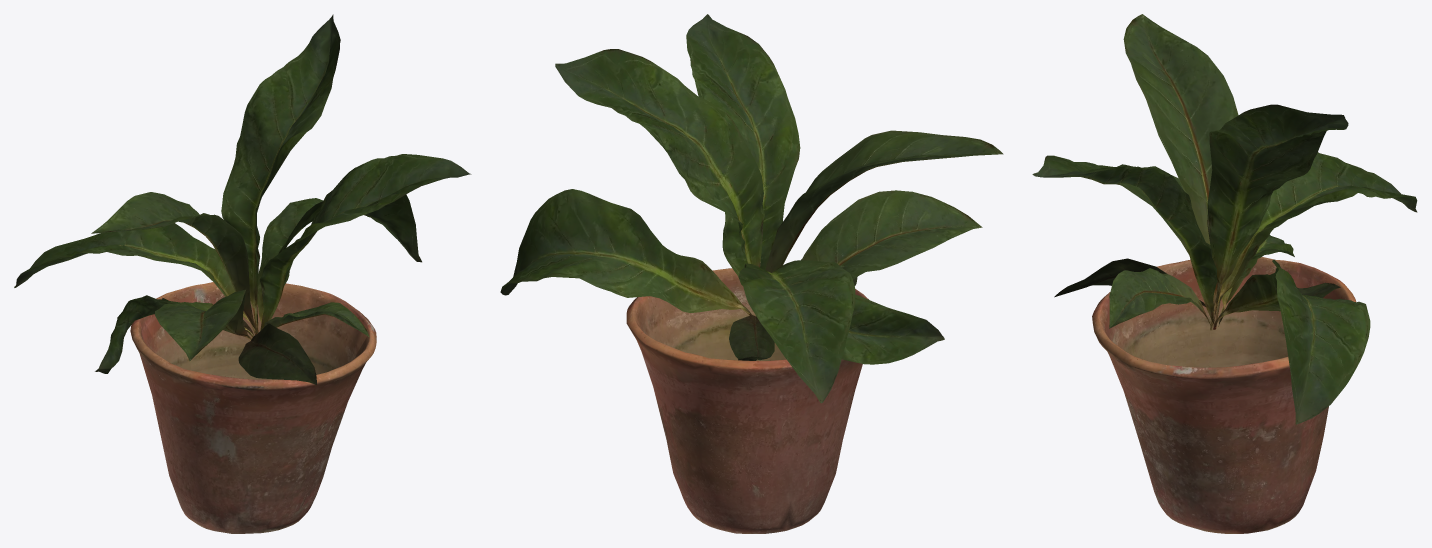
File: plant-anthurium.glb
3 views of the same model, side by side, from view 1: azimuth 30°, elevation 25°; view 2: azimuth 150°, elevation 25°; view 3: azimuth 270°, elevation 25° (orthographic). The views are drawn at different scales.
Parts seen in each view (by area): view 1: anthurium_botany_01_b, planter_pot_clay; view 2: anthurium_botany_01_b, planter_pot_clay; view 3: anthurium_botany_01_b, planter_pot_clay.
Part boxes in pixels (<box>): anthurium_botany_01_b: <box>14,14,471,384</box>; planter_pot_clay: <box>130,282,376,533</box>; anthurium_botany_01_b: <box>500,14,1003,403</box>; planter_pot_clay: <box>626,268,868,533</box>; anthurium_botany_01_b: <box>1032,14,1417,424</box>; planter_pot_clay: <box>1092,257,1356,533</box>.
Size of the model in its own units: 0.5052 by 0.5102 by 0.3818.
Materials: 2 (2 with a texture image).
